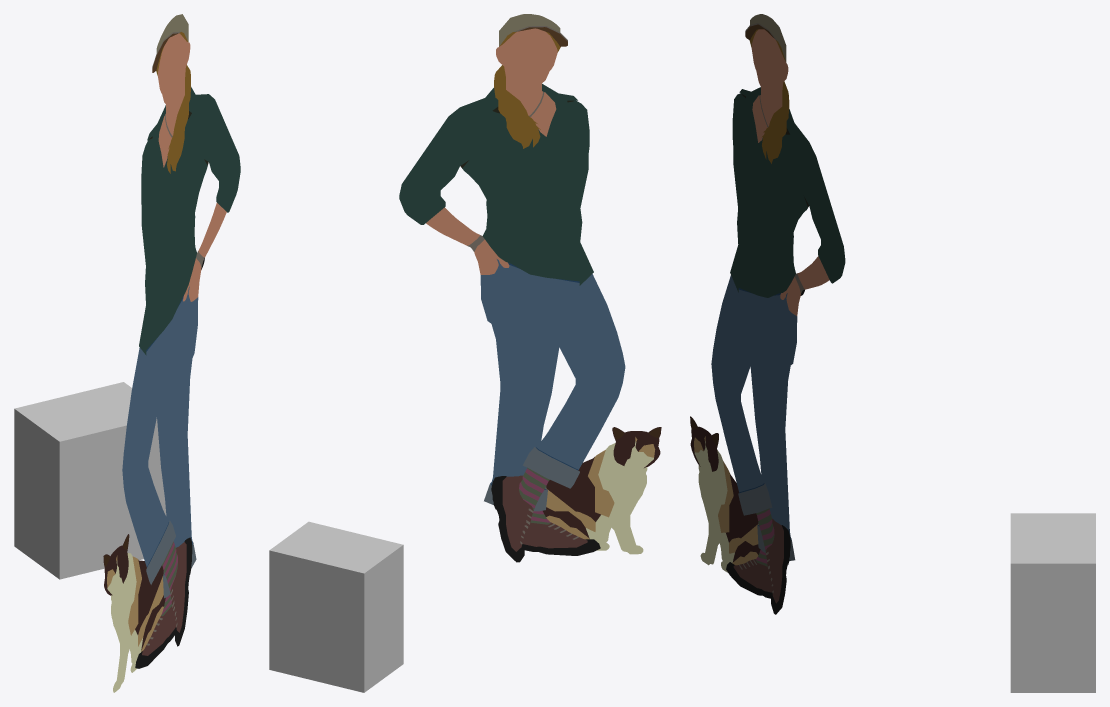
3 views of the same model, side by side, from view 1: azimuth 30°, elevation 25°; view 2: azimuth 150°, elevation 25°; view 3: azimuth 270°, elevation 25° (orthographic). The views are drawn at different scales.
Visible parts, largest first — view 1: root; view 2: root; view 3: root.
Part boxes in pixels (x1,y1,x2,y2): root: [14, 14, 240, 692]; root: [269, 14, 661, 692]; root: [690, 14, 1095, 692].
Bounding box in the file's own units: 0.6448 × 1.72 × 1.02.
